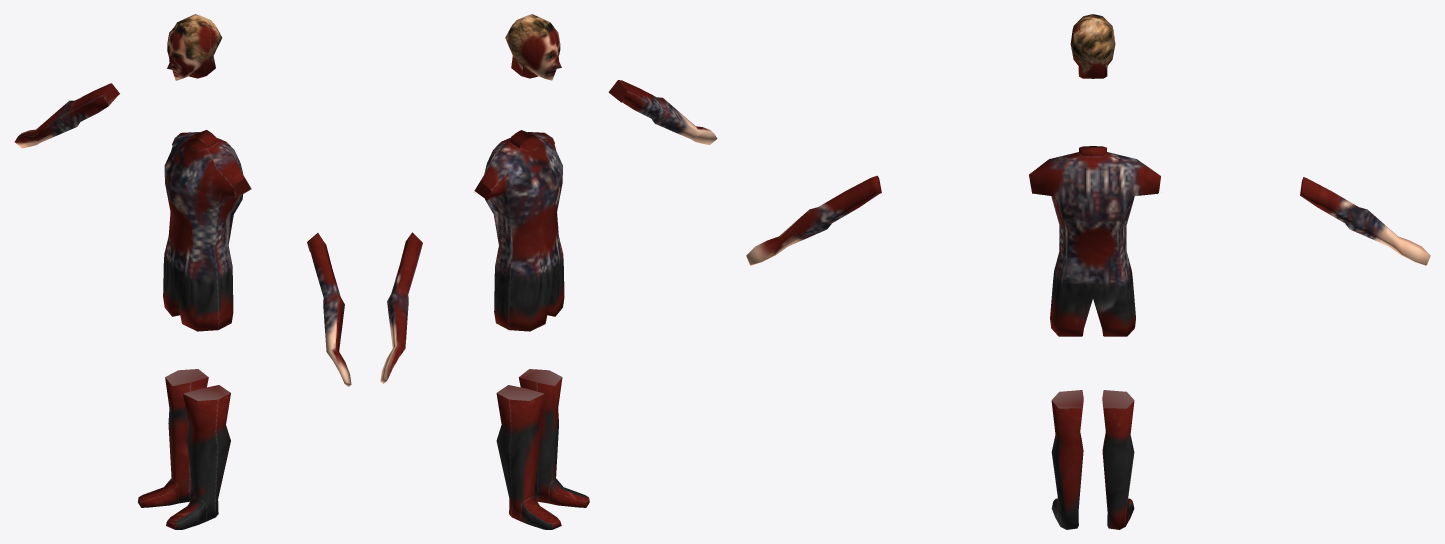
Rendered from p_homme.fbx.
3 renders of one model, left to right at view 1: azimuth 30°, elevation 25°; view 2: azimuth 150°, elevation 25°; view 3: azimuth 270°, elevation 25°, orthographic. The views are drawn at different scales.
Visible parts, largest first — view 1: Cube.026, Cube.080, Cube.076, Cube.038, Cube.065, Cube.064; view 2: Cube.026, Cube.076, Cube.080, Cube.038, Cube.064, Cube.065; view 3: Cube.026, Cube.076, Cube.080, Cube.065, Cube.064, Cube.038.
Part boxes in pixels (<box>): Cube.026: <box>163,130,251,331</box>; Cube.080: <box>166,385,230,529</box>; Cube.076: <box>138,369,208,507</box>; Cube.038: <box>167,14,222,80</box>; Cube.065: <box>307,233,351,386</box>; Cube.064: <box>14,83,119,148</box>; Cube.026: <box>474,130,564,331</box>; Cube.076: <box>496,385,561,529</box>; Cube.080: <box>518,369,589,507</box>; Cube.038: <box>505,14,561,80</box>; Cube.064: <box>380,232,422,383</box>; Cube.065: <box>608,80,717,144</box>; Cube.026: <box>1029,146,1160,336</box>; Cube.076: <box>1102,390,1134,529</box>; Cube.080: <box>1051,390,1083,529</box>; Cube.065: <box>746,175,881,265</box>; Cube.064: <box>1300,177,1430,265</box>; Cube.038: <box>1070,14,1115,78</box>.
Bounding box in the file's own units: 234 × 1340 × 1637.
